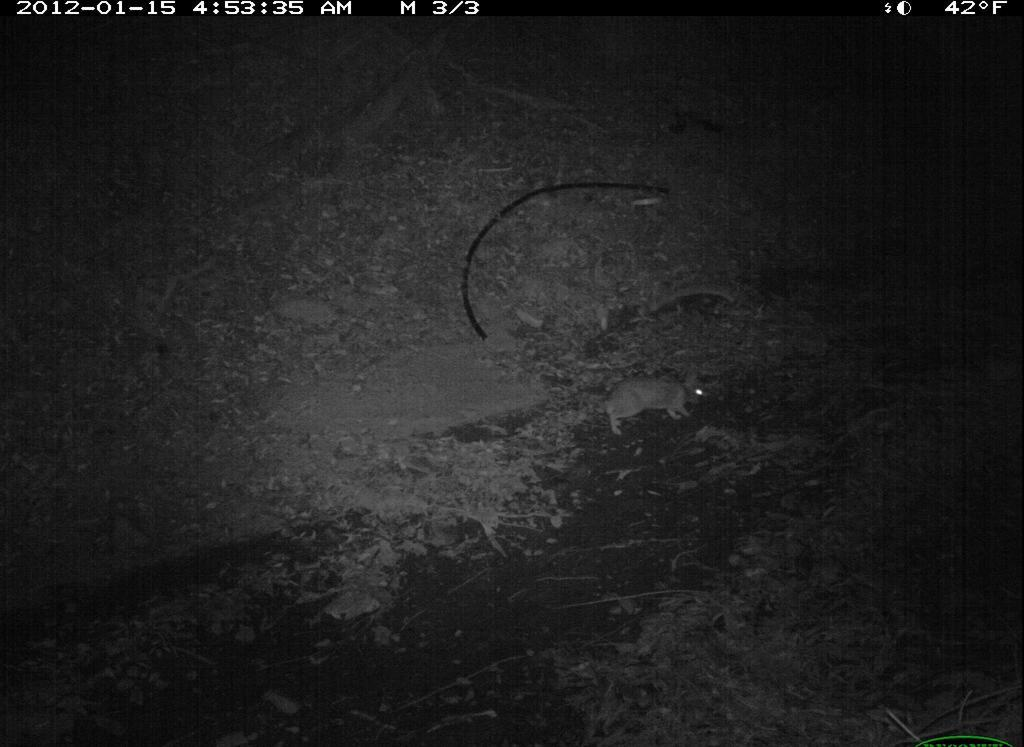rabbit: (594, 358, 713, 446)
